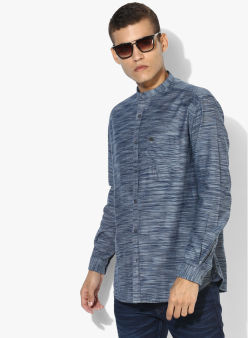NOTSAFE: (101, 3, 229, 290)
